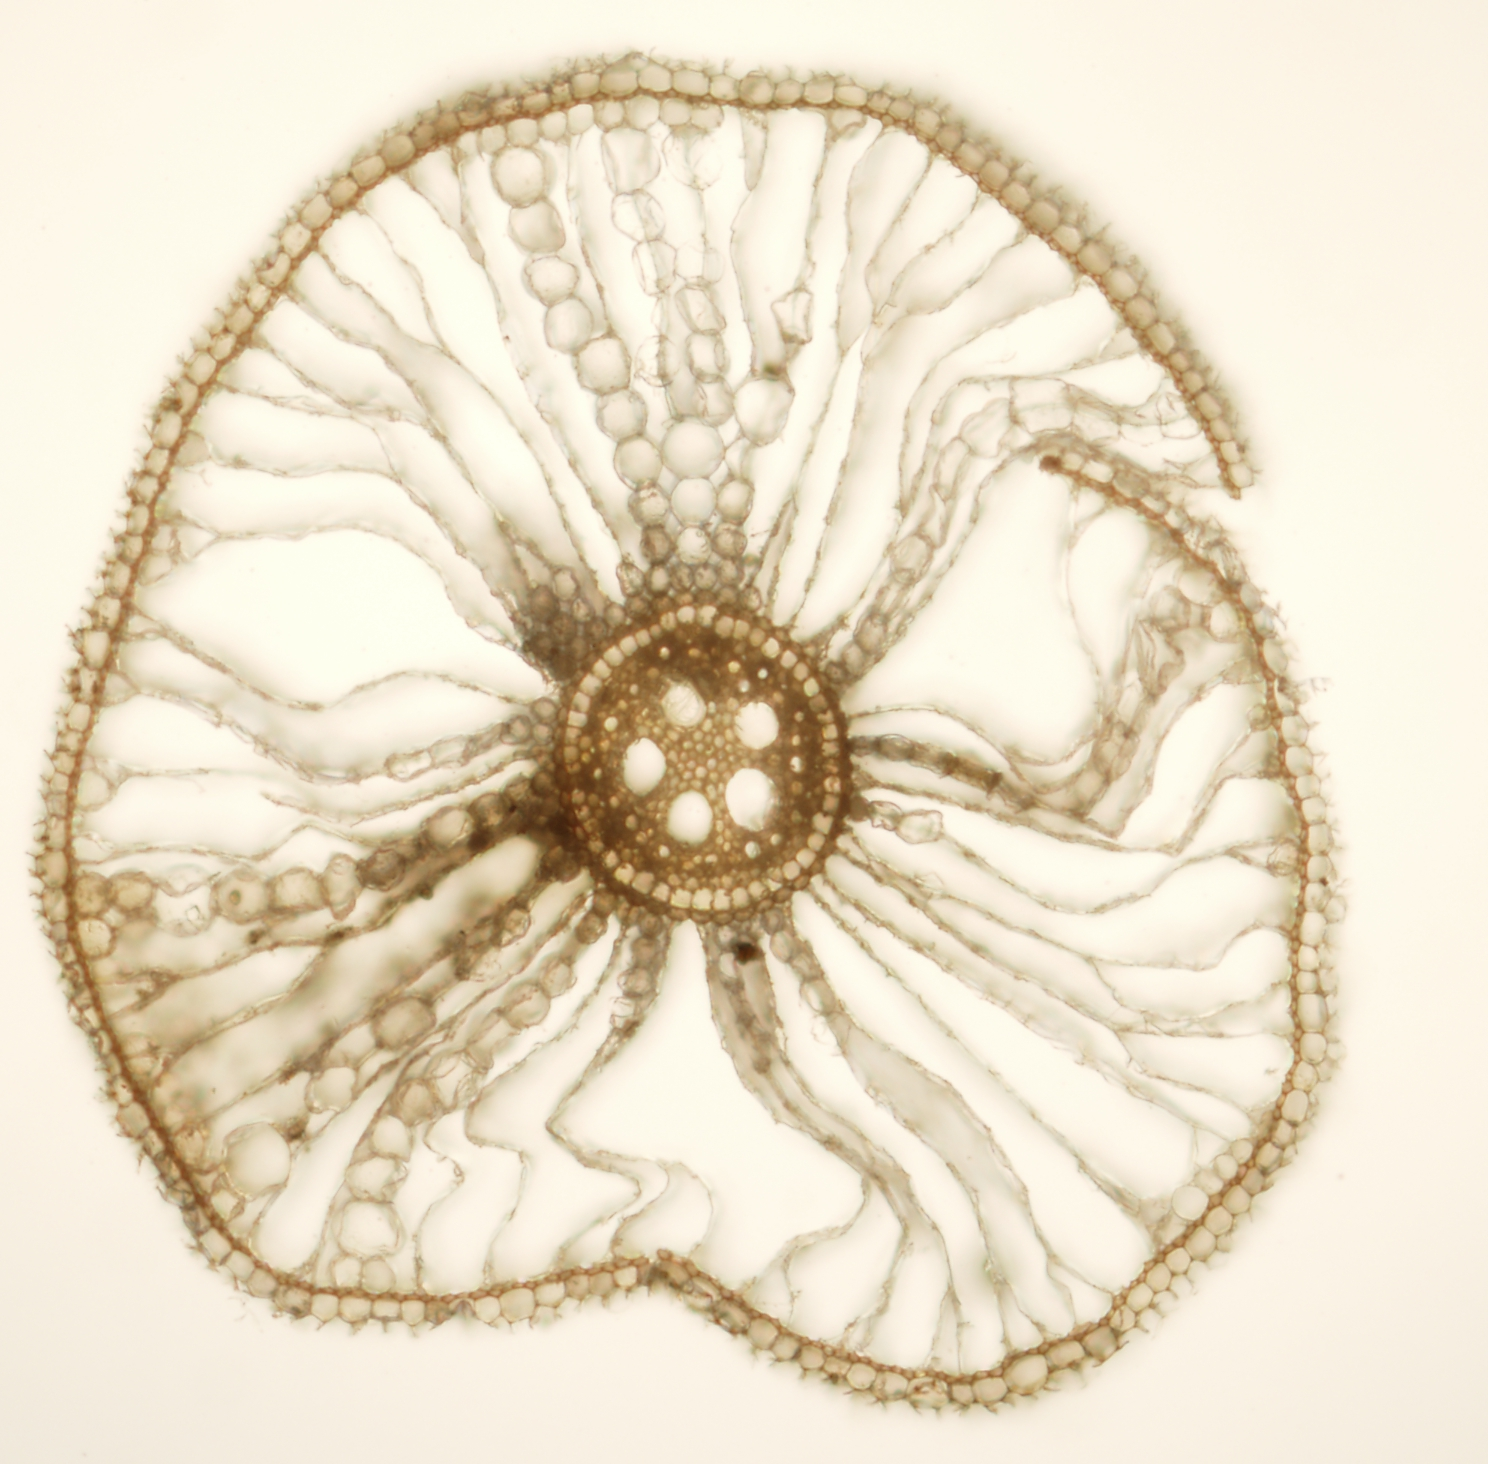lm: (725, 767, 779, 830), (664, 788, 713, 846), (619, 736, 666, 796), (733, 700, 779, 749), (661, 684, 706, 727)
